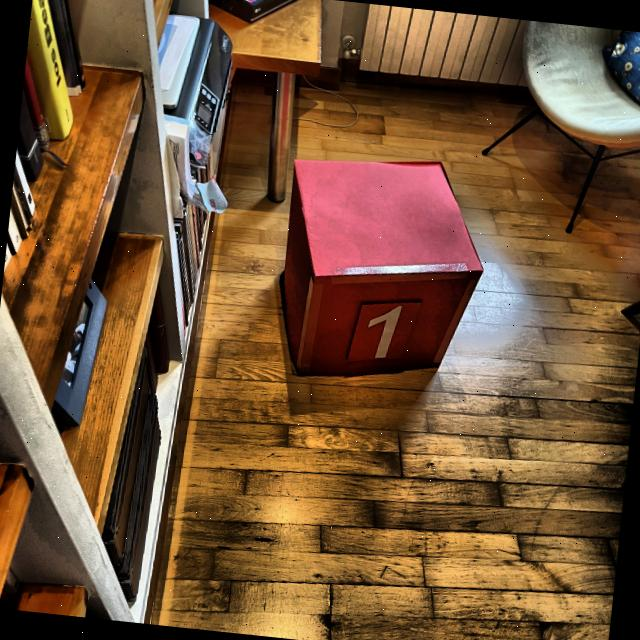one: (366, 303, 400, 361)
red box: (273, 150, 494, 396)
